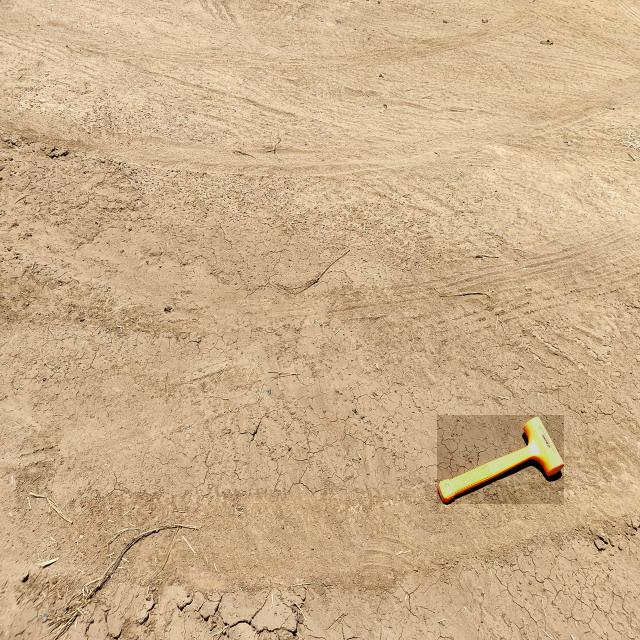Orange_hammer: (437, 415, 564, 504)
